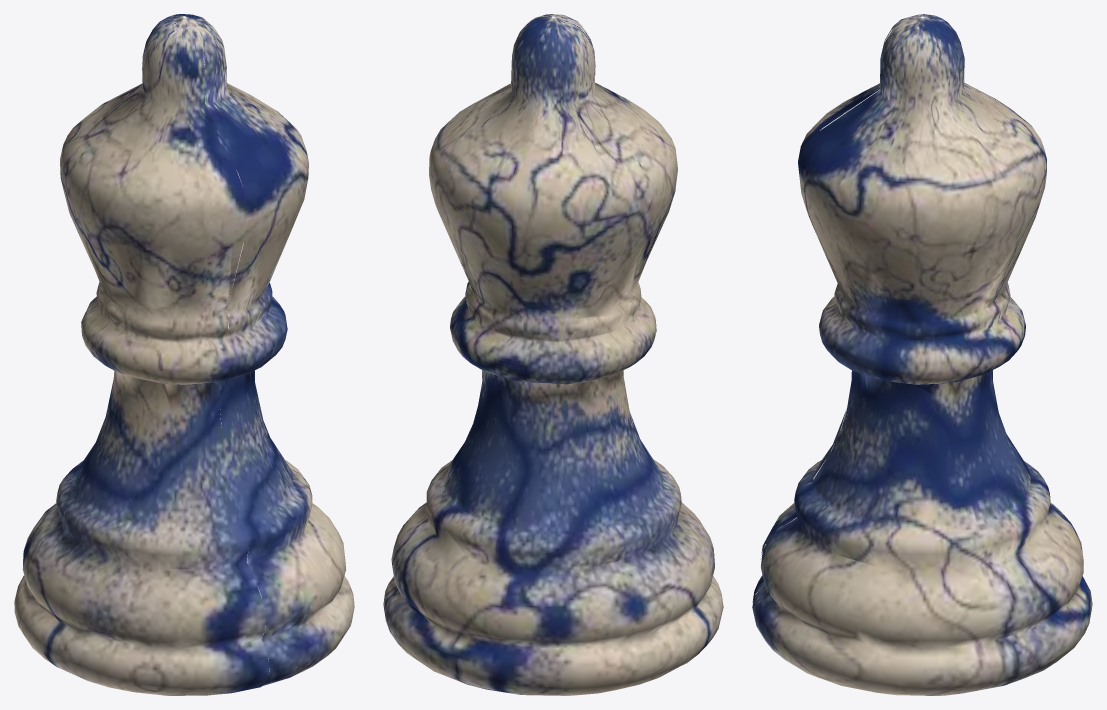
Rendered from cobalt_vein_white_bishop.glb.
3 renders of one model, left to right at view 1: azimuth 30°, elevation 25°; view 2: azimuth 150°, elevation 25°; view 3: azimuth 270°, elevation 25°, orthographic.
Parts seen in each view (by area): view 1: Cobalt Vein white bishop; view 2: Cobalt Vein white bishop; view 3: Cobalt Vein white bishop.
Boxes of the visible parts, box(x1,y1,x2,y2) form: Cobalt Vein white bishop: box(14, 14, 354, 695); Cobalt Vein white bishop: box(383, 14, 723, 695); Cobalt Vein white bishop: box(752, 14, 1092, 695).
Size of the model in its own units: 0.035 by 0.0703 by 0.035.
1 material, 1 textured.
